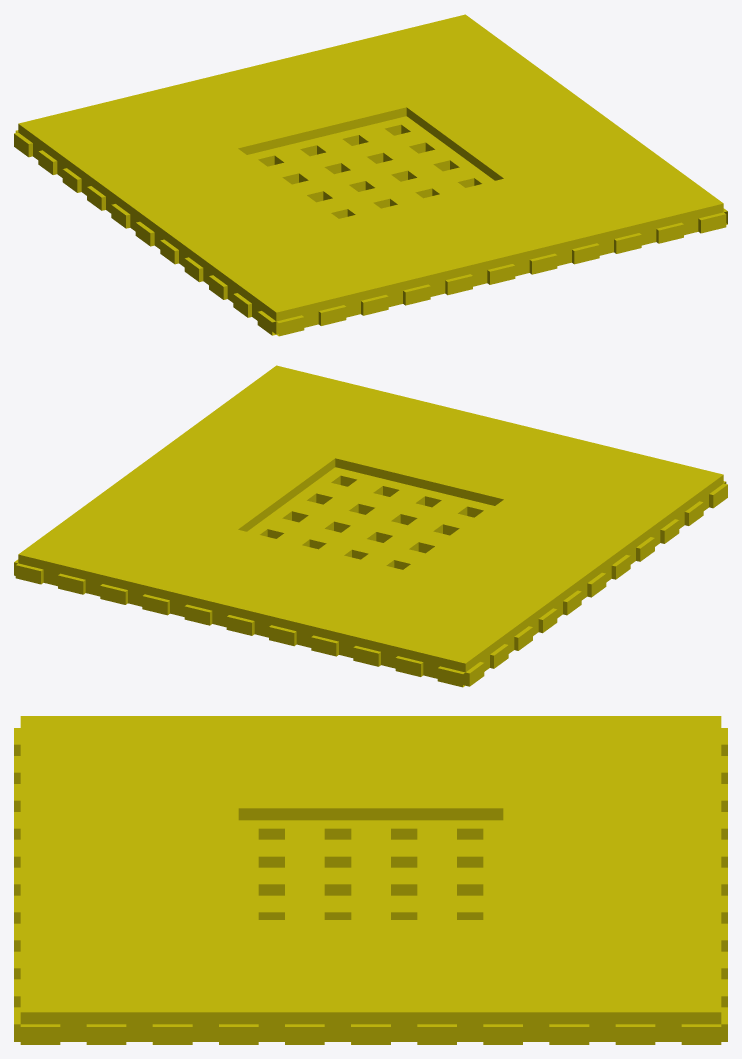
File: chip.dae
The picture shows the model from 3 angles, top to bottom: view 1: azimuth 30°, elevation 25°; view 2: azimuth 150°, elevation 25°; view 3: azimuth 270°, elevation 25°; orthographic projection. The views are drawn at different scales.
Visible parts, largest first — view 1: x, a_001, q; view 2: x, a_001, q; view 3: x, a_001, q.
Boxes of the visible parts, bbox=[...] form: x: bbox=[18, 14, 723, 334]; a_001: bbox=[14, 116, 727, 336]; q: bbox=[14, 131, 727, 336]; x: bbox=[18, 365, 723, 672]; a_001: bbox=[14, 467, 727, 687]; q: bbox=[15, 482, 727, 687]; x: bbox=[20, 716, 721, 1041]; a_001: bbox=[14, 728, 727, 1044]; q: bbox=[20, 1027, 721, 1044].
Size of the model in its own units: 10.8 by 10.8 by 0.5.
